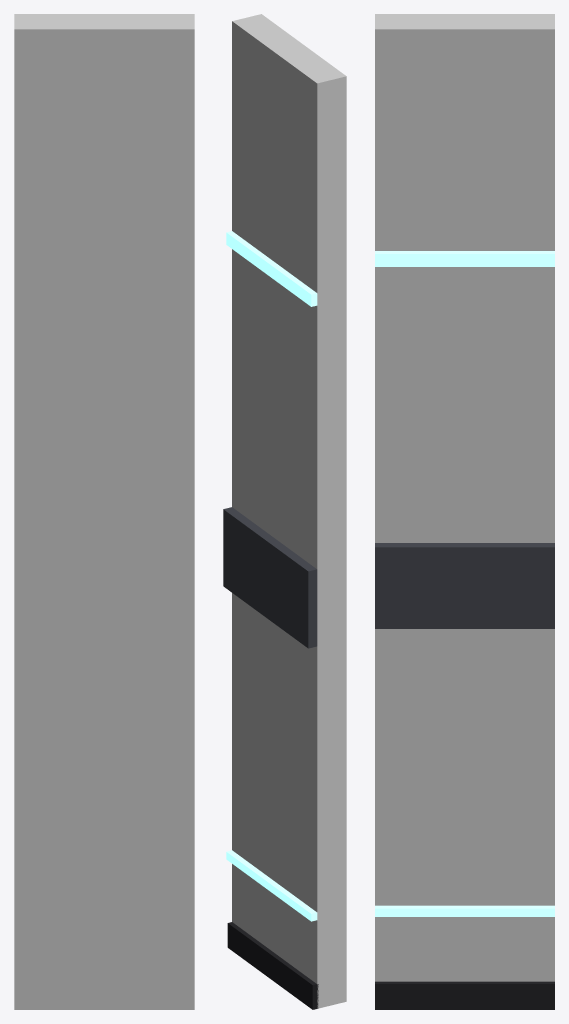
The model's file is SM_Wall_Future.fbx.
3 renders of one model, left to right at view 1: azimuth 90°, elevation 25°; view 2: azimuth 210°, elevation 25°; view 3: azimuth 270°, elevation 25°, orthographic. The views are drawn at different scales.
Parts seen in each view (by area): view 1: SM_Wall_Future; view 2: SM_Wall_Future; view 3: SM_Wall_Future.
Boxes of the visible parts, left/top/right/bottom form: SM_Wall_Future: left=14, top=14, right=194, bottom=1009; SM_Wall_Future: left=223, top=14, right=346, bottom=1009; SM_Wall_Future: left=375, top=14, right=554, bottom=1009.
Bounding box in the file's own units: 26 × 600 × 100.
